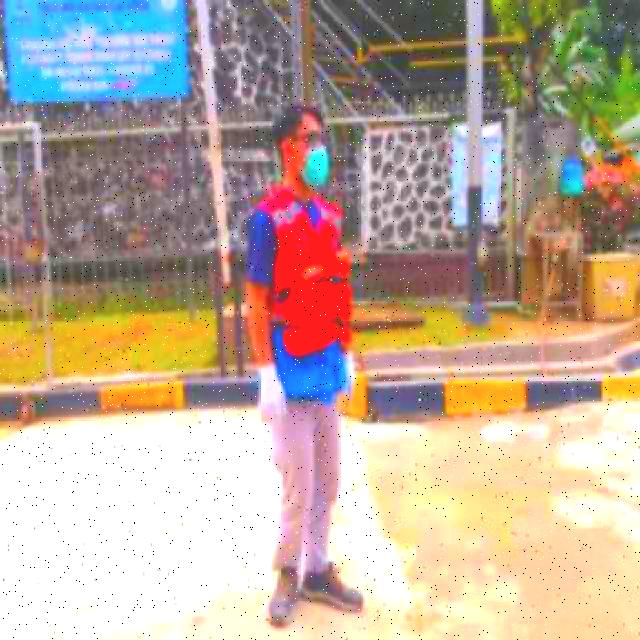Boots: (298, 562, 366, 616), (266, 566, 302, 628)
Gloves: (254, 363, 288, 428), (340, 350, 358, 413)
Mask: (284, 248, 354, 356)
